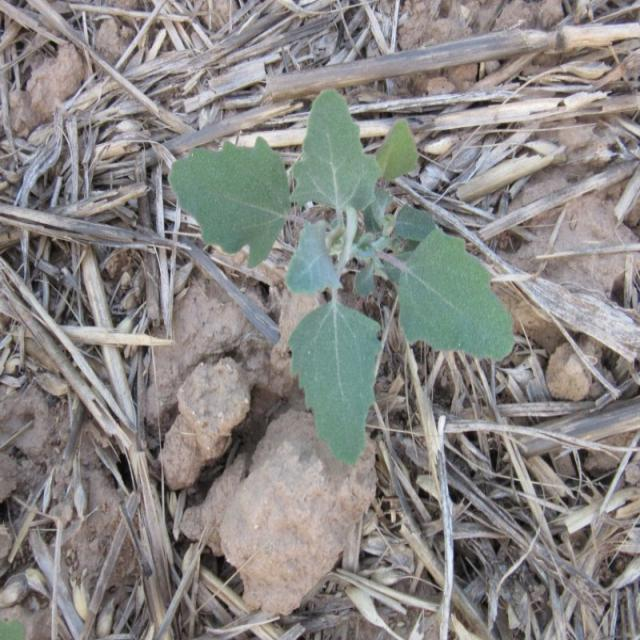ca: (173, 92, 513, 464)
